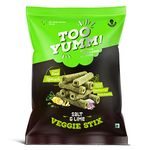plastic: (27, 6, 124, 145)
tooyumm: (50, 19, 109, 56)
wrapper: (25, 7, 128, 143)
